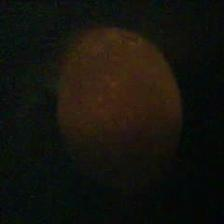fertile: (54, 26, 186, 190)
